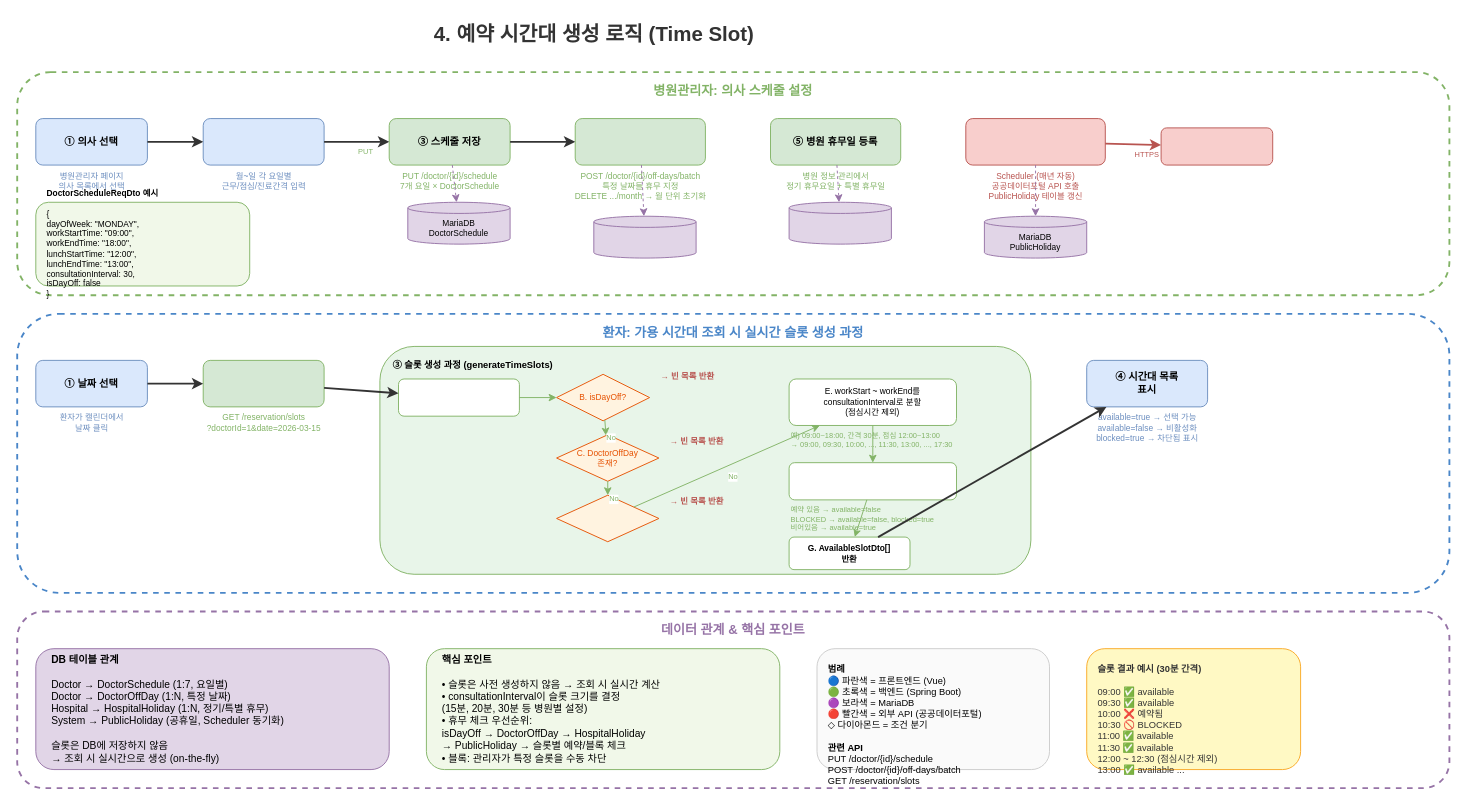
Image size: 1466x804. Some labels were removed from this diagram. Here are the shapes that lost their labels. From the top down, the centre of each, then its label:
At (x=263, y=141): "② 요일별 근무시간 설정".
At (x=639, y=141): "④ 의사 휴무일 설정".
At (x=1035, y=141): "⑥ 공휴일 자동 동기화".
At (x=1216, y=146): "공공데이터포털 공휴일 API".
At (x=644, y=236): "MariaDB DoctorOffDay".
At (x=839, y=222): "MariaDB HospitalHoliday".
At (x=263, y=383): "② 슬롯 조회 API".
At (x=458, y=397): "A. 해당 요일의 DoctorSchedule 조회".
At (x=872, y=481): "F. 각 슬롯에 대해 기존 예약/블록 체크".
At (x=607, y=518): "D. 병원 휴무일 / 공휴일?".
